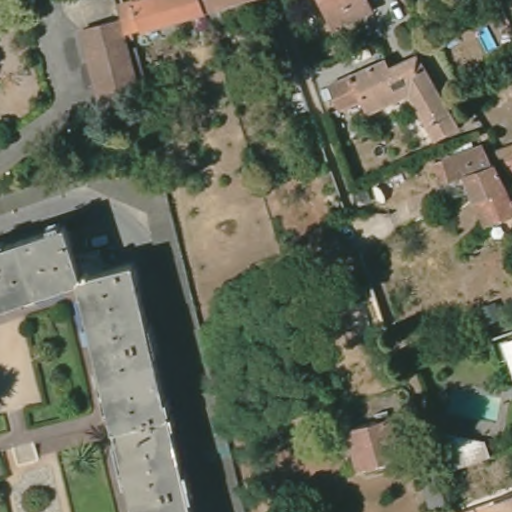pool: (475, 27, 501, 53)
